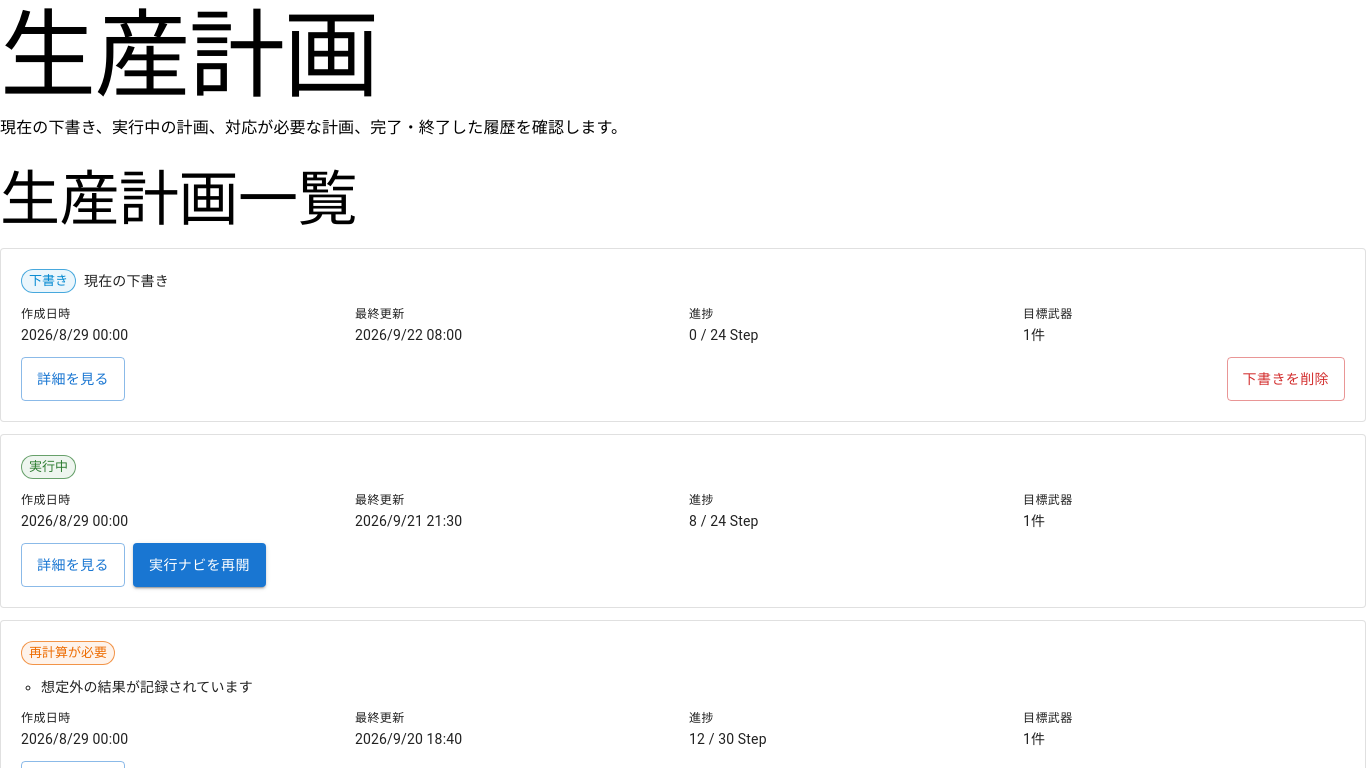
ProductionPlansPage › deletes the Draft through the guarded delete once and removes only it from the list
This screenshot has width=1366, height=768.
Click the button "下書きを削除" at (1286, 379), box [1227, 357, 1345, 401]
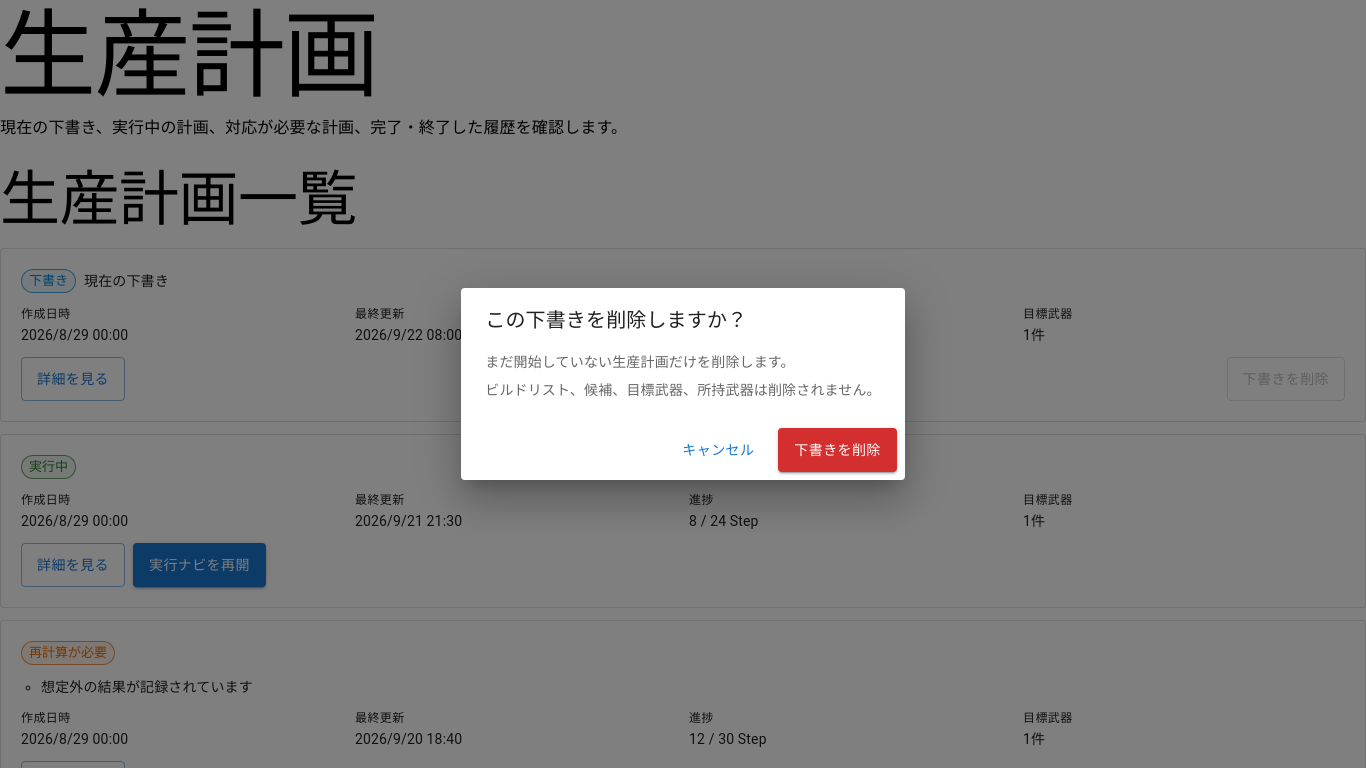
Click the button "下書きを削除" at (838, 450), box [778, 428, 897, 472]
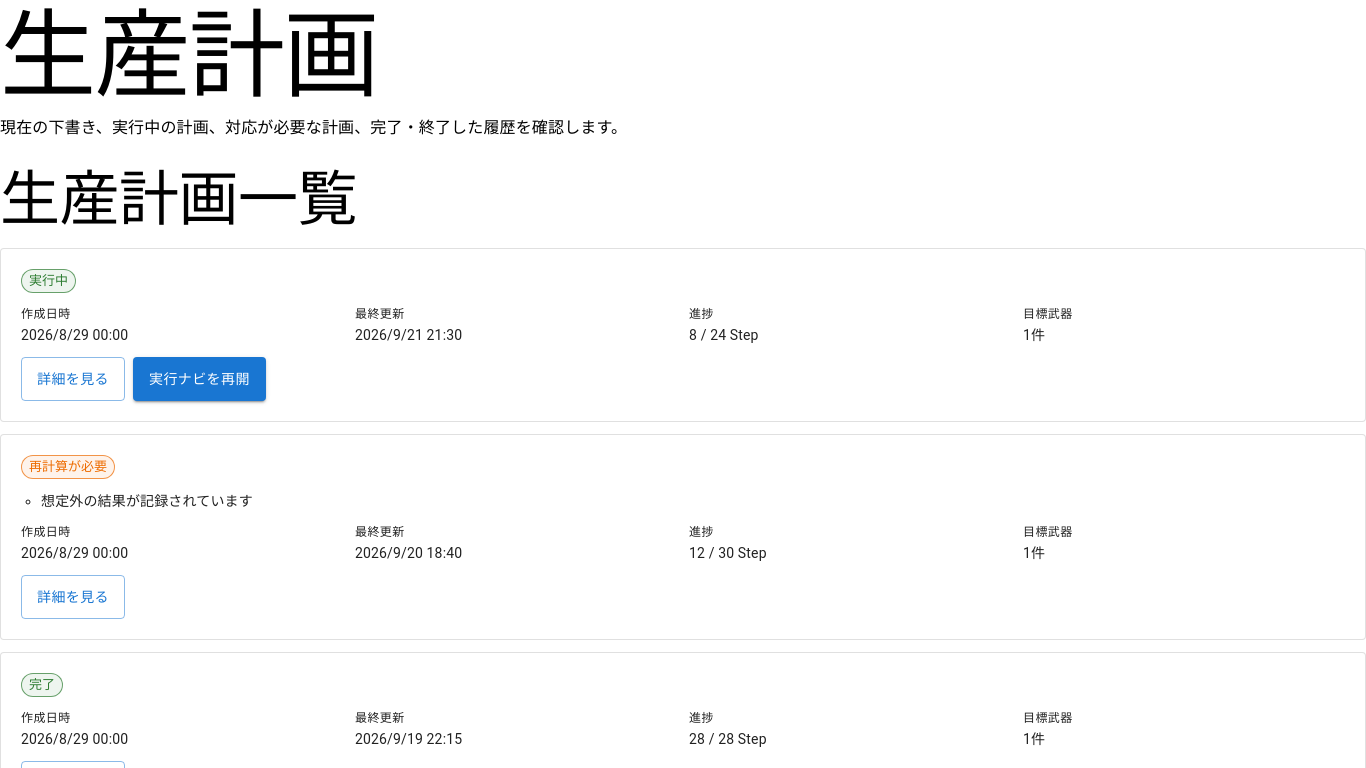
Now the dialog is gone
